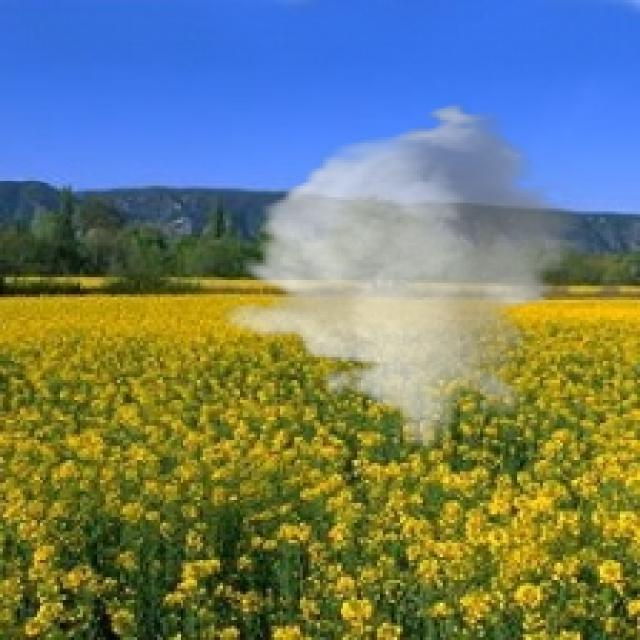smoke: (220, 100, 594, 449)
